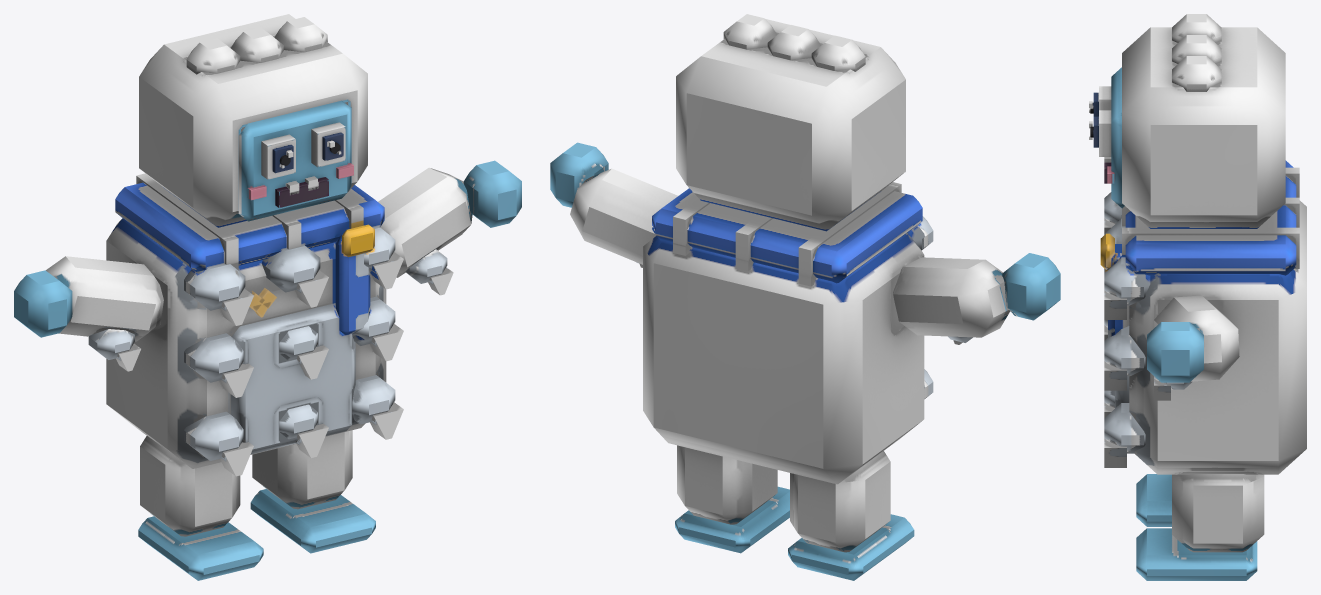
Rendered from YetiCalin_Rig.fbx.
The picture shows the model from 3 angles, left to right: view 1: azimuth 30°, elevation 25°; view 2: azimuth 150°, elevation 25°; view 3: azimuth 270°, elevation 25°; orthographic projection.
Parts seen in each view (by area): view 1: Body, Head, ArmR, LegR, ArmL, LegL; view 2: Body, Head, ArmR, LegR, LegL, ArmL; view 3: Body, Head, LegL, ArmL, LegR.
Boxes of the visible parts, left/top/right/bottom form: Body: left=106, top=173, right=403, bottom=476; Head: left=139, top=14, right=367, bottom=227; ArmR: left=14, top=256, right=163, bottom=371; LegR: left=138, top=436, right=263, bottom=580; ArmL: left=378, top=160, right=521, bottom=295; LegL: left=250, top=430, right=375, bottom=553; Body: left=643, top=182, right=933, bottom=484; Head: left=676, top=14, right=905, bottom=231; ArmR: left=893, top=253, right=1060, bottom=344; LegR: left=788, top=451, right=914, bottom=580; LegL: left=675, top=445, right=789, bottom=553; ArmL: left=550, top=142, right=677, bottom=267; Body: left=1100, top=160, right=1306, bottom=474; Head: left=1089, top=14, right=1285, bottom=228; LegL: left=1136, top=474, right=1264, bottom=580; ArmL: left=1147, top=295, right=1239, bottom=400; LegR: left=1136, top=474, right=1171, bottom=526.
Bounding box in the file's own units: 6.09 × 6 × 2.36.
1 material, 1 textured.
